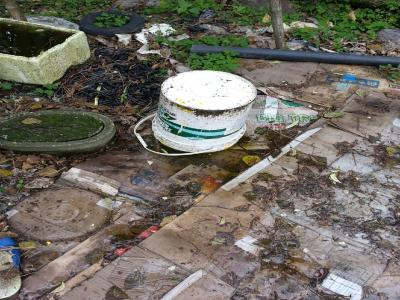bucket: (149, 68, 256, 154)
styrofoam: (1, 17, 90, 87)
